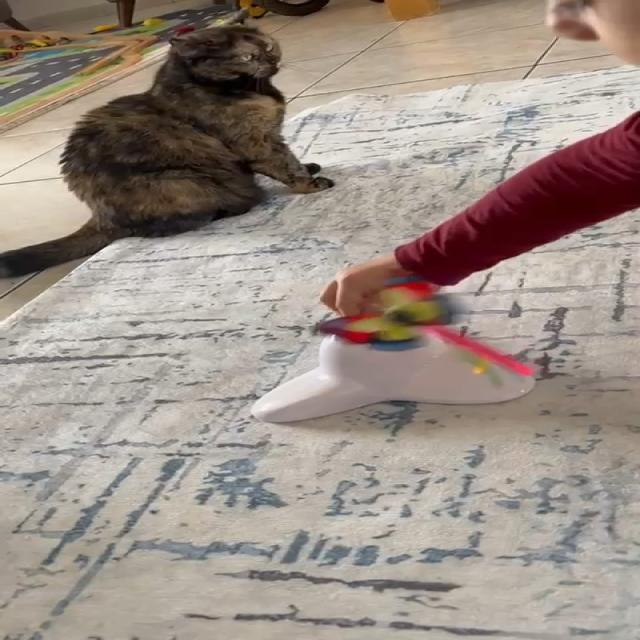authorized: (0, 19, 335, 279)
